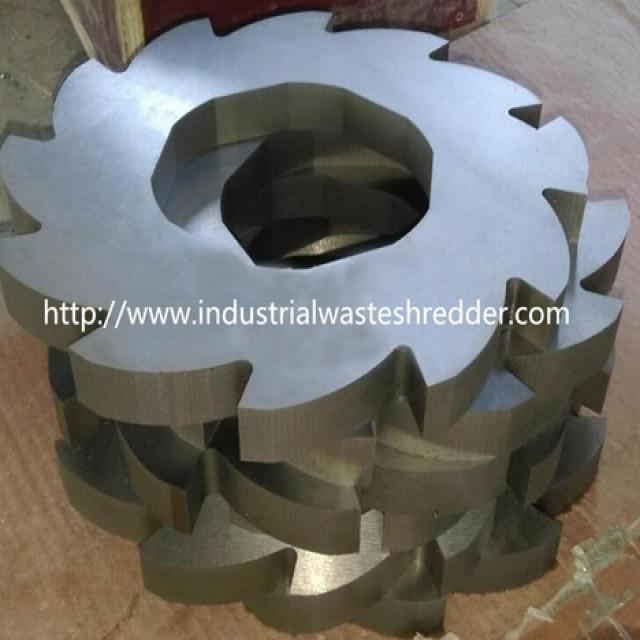palette: (3, 12, 629, 638)
